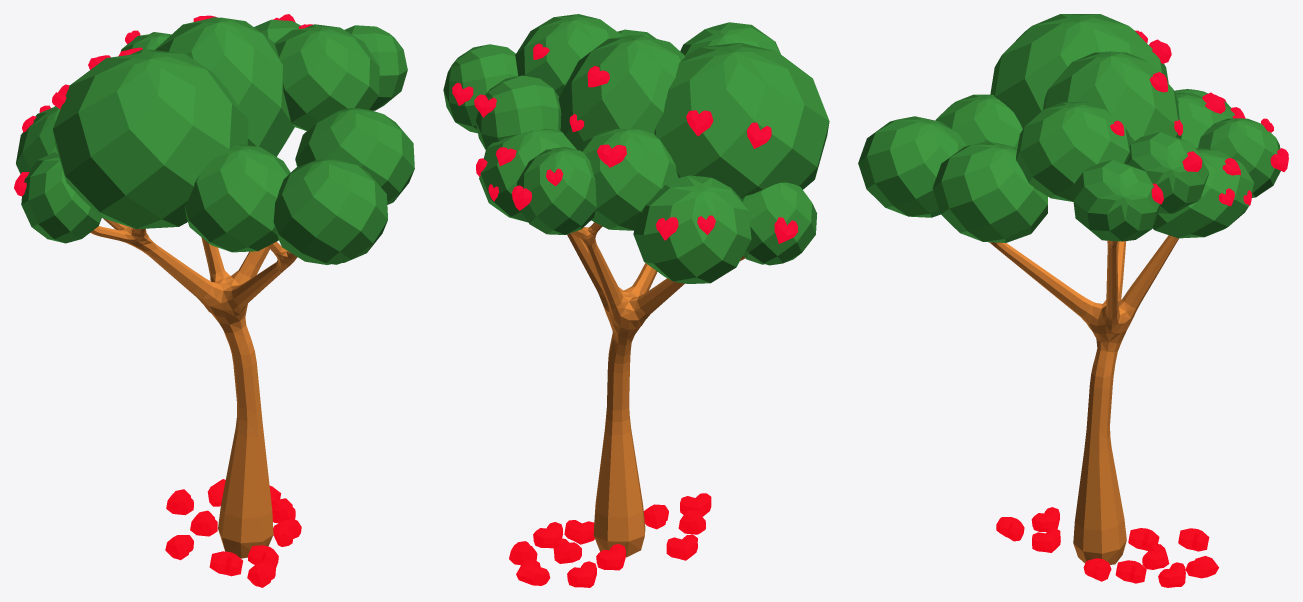
File: tree.glb
3 renders of one model, left to right at view 1: azimuth 30°, elevation 25°; view 2: azimuth 150°, elevation 25°; view 3: azimuth 270°, elevation 25°, orthographic. The views are drawn at different scales.
Visible parts, largest first — view 1: Sphere.005; view 2: Sphere.005; view 3: Sphere.005.
Boxes of the visible parts, x1=… form: Sphere.005: x1=14, y1=14, x2=414, y2=587; Sphere.005: x1=443, y1=14, x2=829, y2=587; Sphere.005: x1=858, y1=14, x2=1288, y2=587.
Size of the model in its own units: 8.11 by 11.22 by 8.78.
